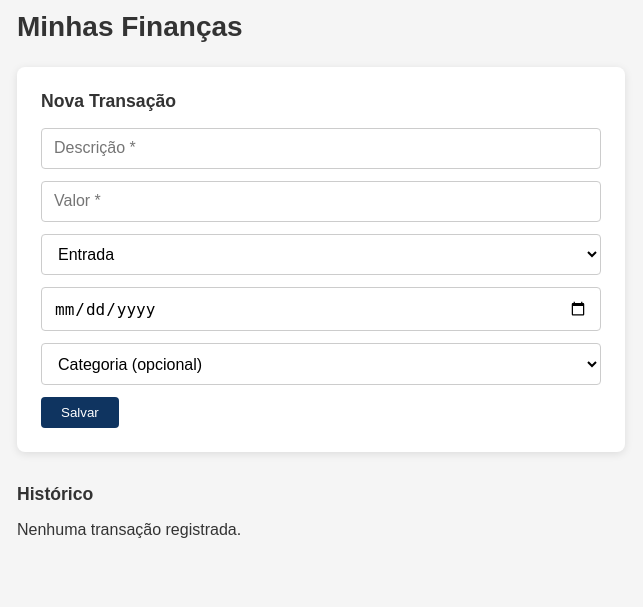
Test: Dashboard (integração) › cria uma nova transação ao enviar o formulário
Expected: the text "Nenhuma transação registrada." is shown, [17,521,241,538]
In the field with placeholder "Descrição *": (321, 148) [41,128,601,169], type "Salário"
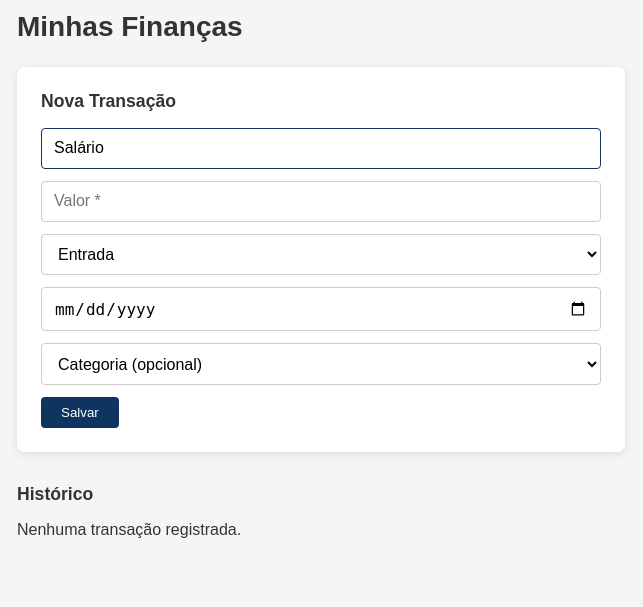
In the number field with placeholder "Valor *": (321, 201) [41,181,601,222], type "1000"
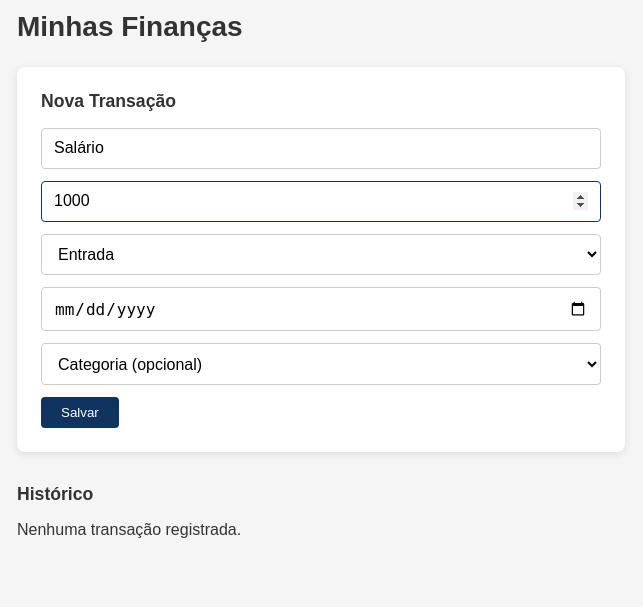
In the date field with placeholder "Data *": (321, 309) [41,287,601,331], type "2024-01-10"
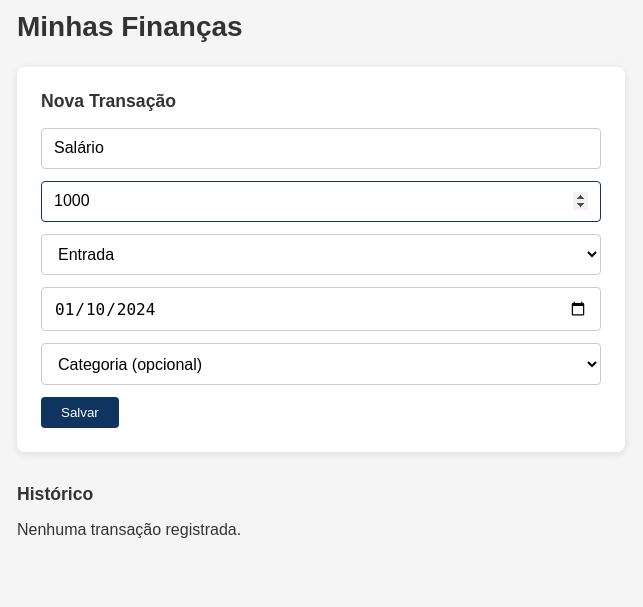
Click the button "Salvar": (80, 412) [41,397,119,428]
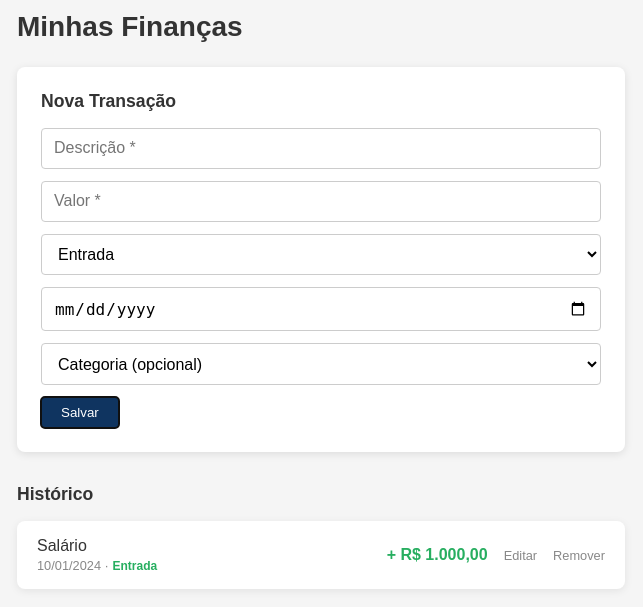
Now the text "Salário" is shown, box [37,537,87,554]
